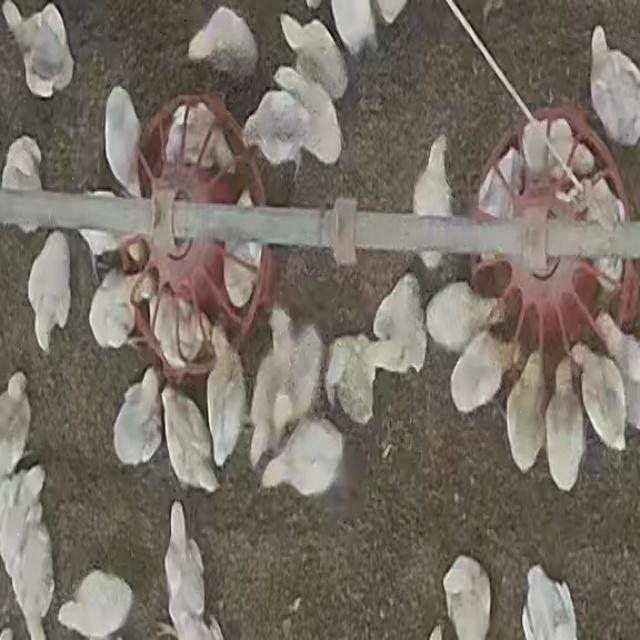chicken: (248, 308, 324, 466), (0, 460, 56, 633), (161, 500, 228, 637), (2, 2, 75, 99), (259, 416, 344, 499), (274, 68, 347, 163), (159, 381, 219, 494), (575, 174, 631, 291), (205, 322, 249, 470), (589, 24, 639, 148), (279, 14, 346, 104), (573, 342, 625, 456), (242, 87, 312, 171), (414, 133, 456, 272), (367, 273, 425, 372), (424, 280, 497, 355), (542, 353, 582, 489), (504, 348, 546, 476), (112, 366, 164, 469), (188, 5, 258, 81), (448, 329, 509, 415), (474, 147, 519, 263), (521, 117, 593, 189), (57, 570, 133, 638), (75, 189, 145, 262), (144, 288, 210, 364), (168, 102, 237, 174), (30, 231, 71, 351), (103, 86, 145, 198), (87, 262, 139, 351), (327, 334, 377, 425), (521, 566, 578, 640), (1, 136, 46, 229), (225, 197, 263, 306), (442, 556, 492, 638), (0, 370, 32, 476), (327, 2, 377, 58)
